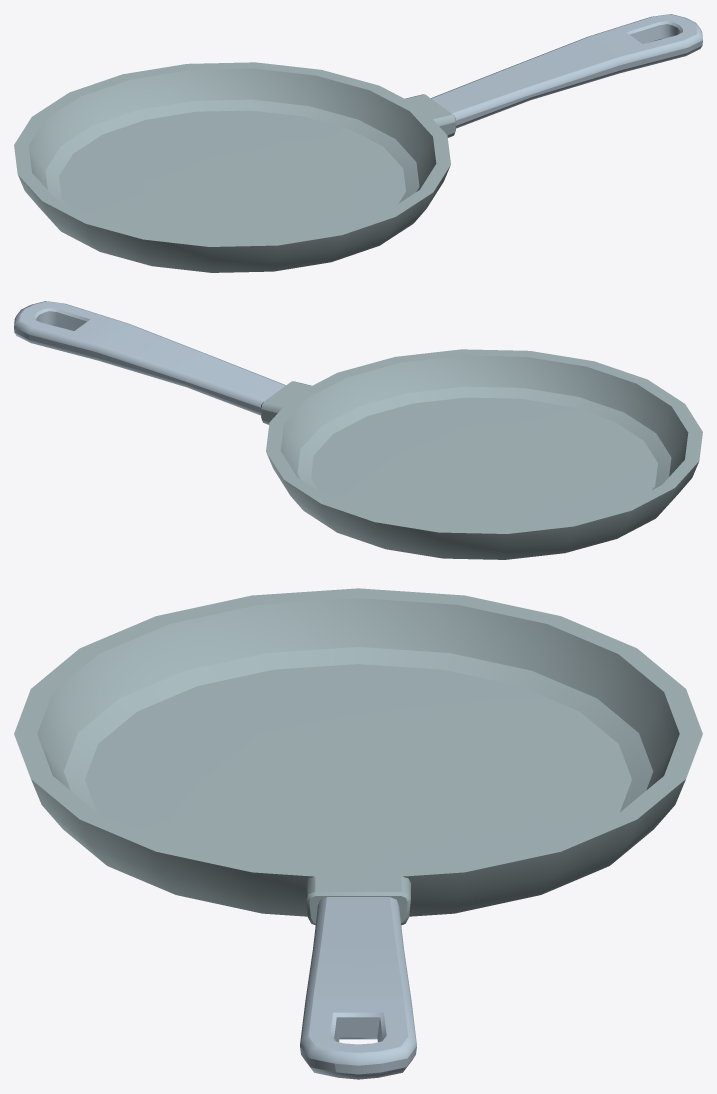
File: Frying_pan.glb
3 views of the same model, one above another, from view 1: azimuth 30°, elevation 25°; view 2: azimuth 150°, elevation 25°; view 3: azimuth 270°, elevation 25° (orthographic). The views are drawn at different scales.
Parts seen in each view (by area): view 1: Circle.002; view 2: Circle.002; view 3: Circle.002.
Part boxes in pixels (x1=…): Circle.002: x1=14, y1=14, x2=702, y2=272; Circle.002: x1=14, y1=301, x2=702, y2=559; Circle.002: x1=14, y1=588, x2=702, y2=1079.
Size of the model in its own units: 0.5063 by 0.0471 by 0.2941.
2 materials, 1 textured.
